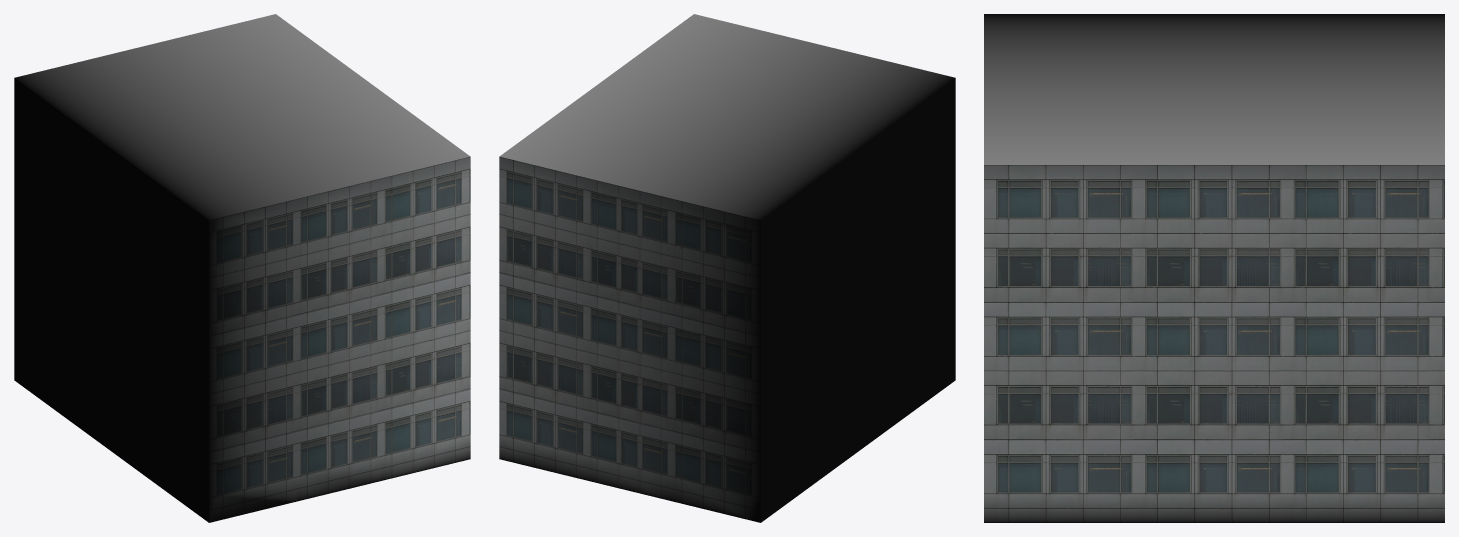
Rendered from AMB_BILL00.glb.
3 renders of one model, left to right at view 1: azimuth 30°, elevation 25°; view 2: azimuth 150°, elevation 25°; view 3: azimuth 270°, elevation 25°, orthographic. The views are drawn at different scales.
Parts seen in each view (by area): view 1: ie_right; view 2: ie_right; view 3: ie_right.
Part boxes in pixels (x1=…): ie_right: x1=14, y1=14, x2=470, y2=522; ie_right: x1=499, y1=14, x2=955, y2=522; ie_right: x1=984, y1=14, x2=1444, y2=522.
Size of the model in its own units: 32.46 by 35.89 by 41.89.
Materials: 3 (3 with a texture image).
